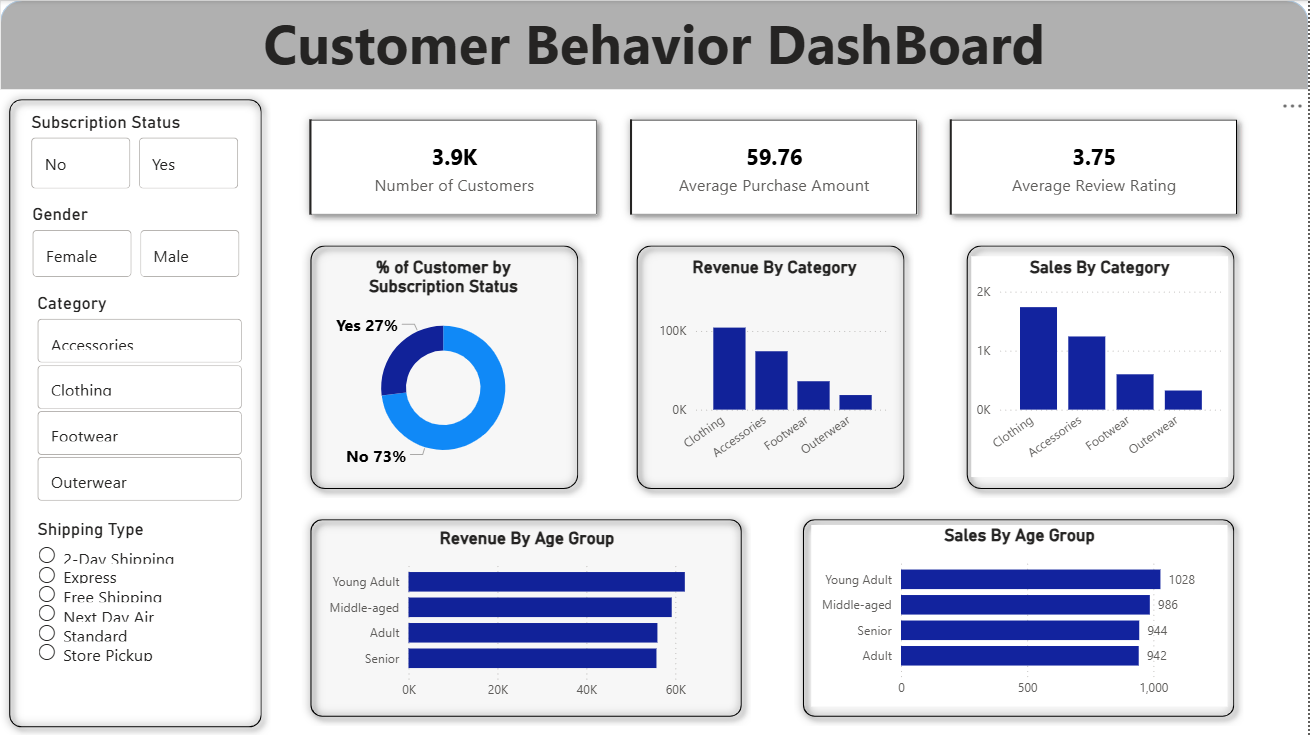

This screenshot's page, from the dashboard's own definition file:
{"tool":"powerbi","page":{"name":"Page 1","canvas":[1280,720],"ordinal":0},"visuals":[{"type":"cardVisual","fields":{"Data":["public customer.Number of Customers","public customer.Average Purchase Amount","public customer.Average Review Rating"]},"box":[273.8,87.5,966.2,151.2],"z":0},{"type":"shape","box":[0,0,1280.3,88],"z":1000},{"type":"textbox","box":[0,0,1280.3,88],"z":2000},{"type":"shape","box":[936.2,231.2,280,256.2],"z":3000},{"type":"donutChart","title":"% of Customer by Subscription Status","fields":{"Category":["public customer.subscription_status"],"Y":["CountNonNull(public customer.customer_id)"]},"box":[308.8,251.2,251.2,216.2],"z":4000},{"type":"clusteredColumnChart","title":"Revenue By Category","fields":{"Y":["Sum(public customer.purchase_amount)"],"Category":["public customer.category"]},"box":[640,251.2,236.2,216.2],"z":5000},{"type":"clusteredColumnChart","title":"Sales By Category","fields":{"Y":["CountNonNull(public customer.customer_id)"],"Category":["public customer.category"]},"box":[950,251.2,251.2,216.2],"z":6000},{"type":"shape","box":[295,231.2,280,256.2],"z":7000},{"type":"shape","box":[613.8,231.2,280,256.2],"z":8000},{"type":"shape","box":[0,87.5,265,632.5],"z":9000},{"type":"advancedSlicerVisual","fields":{"Values":["public customer.subscription_status"]},"box":[26.2,108.8,213.8,81.2],"z":10000},{"type":"advancedSlicerVisual","fields":{"Values":["public customer.gender"]},"box":[27.5,199.6,213.8,77.5],"z":11000},{"type":"advancedSlicerVisual","fields":{"Values":["public customer.category"]},"box":[31.2,286.7,210,211.2],"z":12000},{"type":"listSlicer","fields":{"Values":["public customer.shipping_type"]},"box":[31.2,507.5,208.8,190],"z":13000},{"type":"clusteredBarChart","title":"Revenue By Age Group","fields":{"Y":["Sum(public customer.purchase_amount)"],"Category":["public customer.age_group"]},"box":[311.2,516.2,407.5,177.5],"z":14000},{"type":"shape","box":[295,498.8,440,211.2],"z":15001},{"type":"shape","box":[776.2,498.8,440,211.2],"z":15002},{"type":"clusteredBarChart","title":"Sales By Age Group","fields":{"Y":["CountNonNull(public customer.customer_id)"],"Category":["public customer.age_group"]},"box":[793.8,513.8,407.5,177.5],"z":15003}]}

Visuals, with their boxes in screenshot pixels (x1, y1, x2, y2), scaled from the page's 1280x720 canvas onto the 1310x735 screenshot:
cardVisual - public customer.Number of Customers x public customer.Average Purchase Amount: (280, 89, 1269, 244)
shape: (0, 0, 1309, 90)
textbox: (0, 0, 1309, 90)
shape: (958, 236, 1245, 498)
"% of Customer by Subscription Status" donutChart: (316, 256, 573, 477)
"Revenue By Category" clusteredColumnChart: (655, 256, 897, 477)
"Sales By Category" clusteredColumnChart: (972, 256, 1229, 477)
shape: (302, 236, 588, 498)
shape: (628, 236, 915, 498)
shape: (0, 89, 271, 734)
advancedSlicerVisual - public customer.subscription_status: (27, 111, 246, 194)
advancedSlicerVisual - public customer.gender: (28, 204, 247, 283)
advancedSlicerVisual - public customer.category: (32, 293, 247, 508)
listSlicer - public customer.shipping_type: (32, 518, 246, 712)
"Revenue By Age Group" clusteredBarChart: (318, 527, 736, 708)
shape: (302, 509, 752, 725)
shape: (794, 509, 1245, 725)
"Sales By Age Group" clusteredBarChart: (812, 525, 1229, 706)
